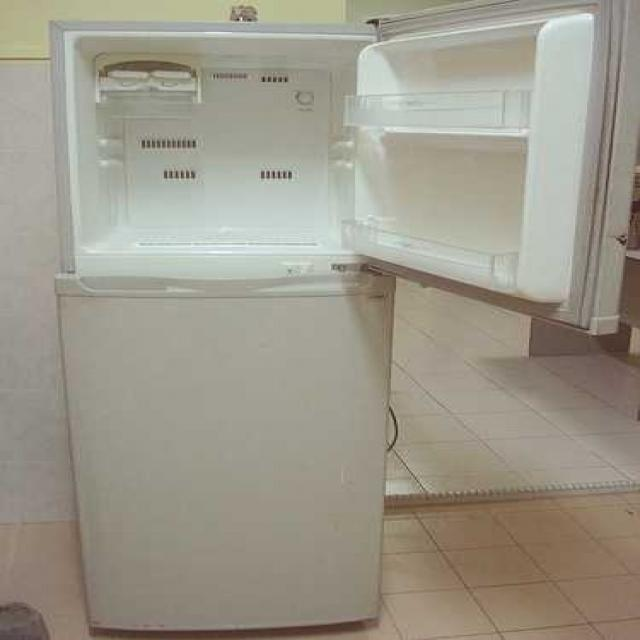refrigerator: (47, 19, 503, 636)
